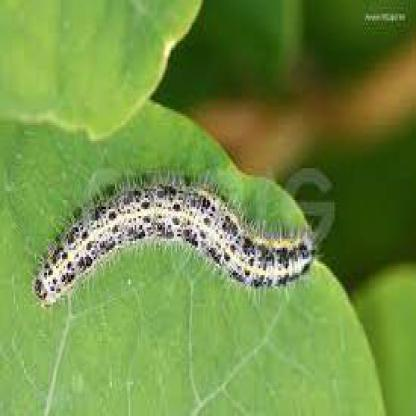pieris: (29, 177, 319, 303)
